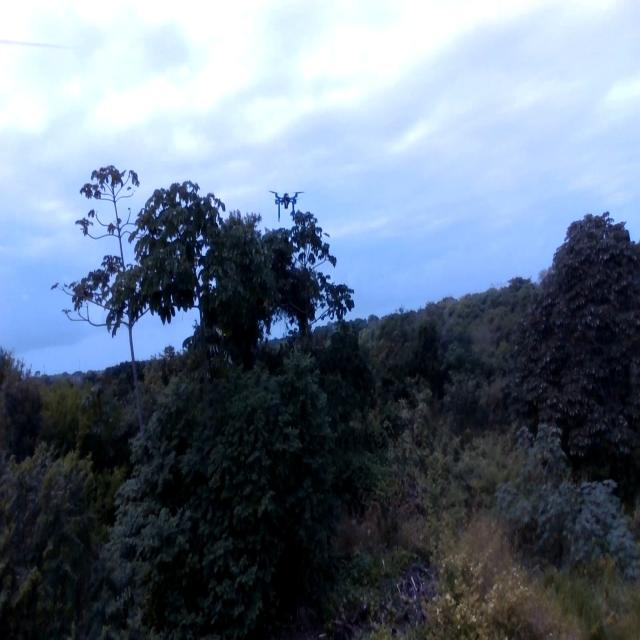-uav-: (266, 182, 316, 231)
